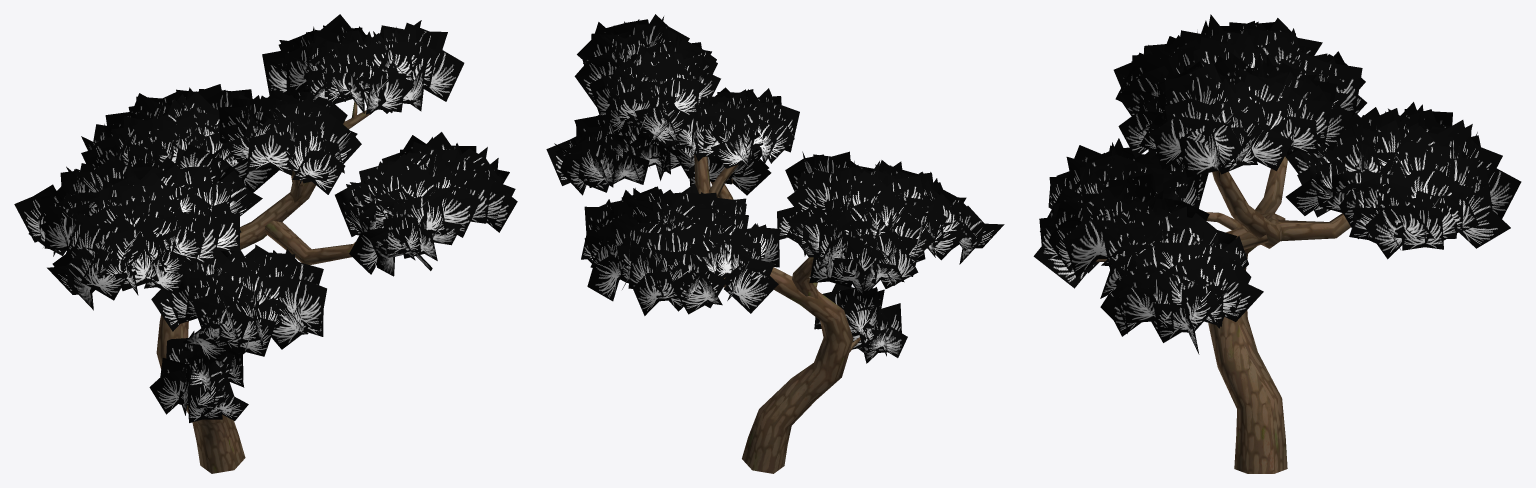
Rendered from P_ChinaPineB02.obj.
3 views of the same model, side by side, from view 1: azimuth 30°, elevation 25°; view 2: azimuth 150°, elevation 25°; view 3: azimuth 270°, elevation 25° (orthographic). The views are drawn at different scales.
Bounding box in the file's own units: 18.37 × 15.83 × 14.46.
